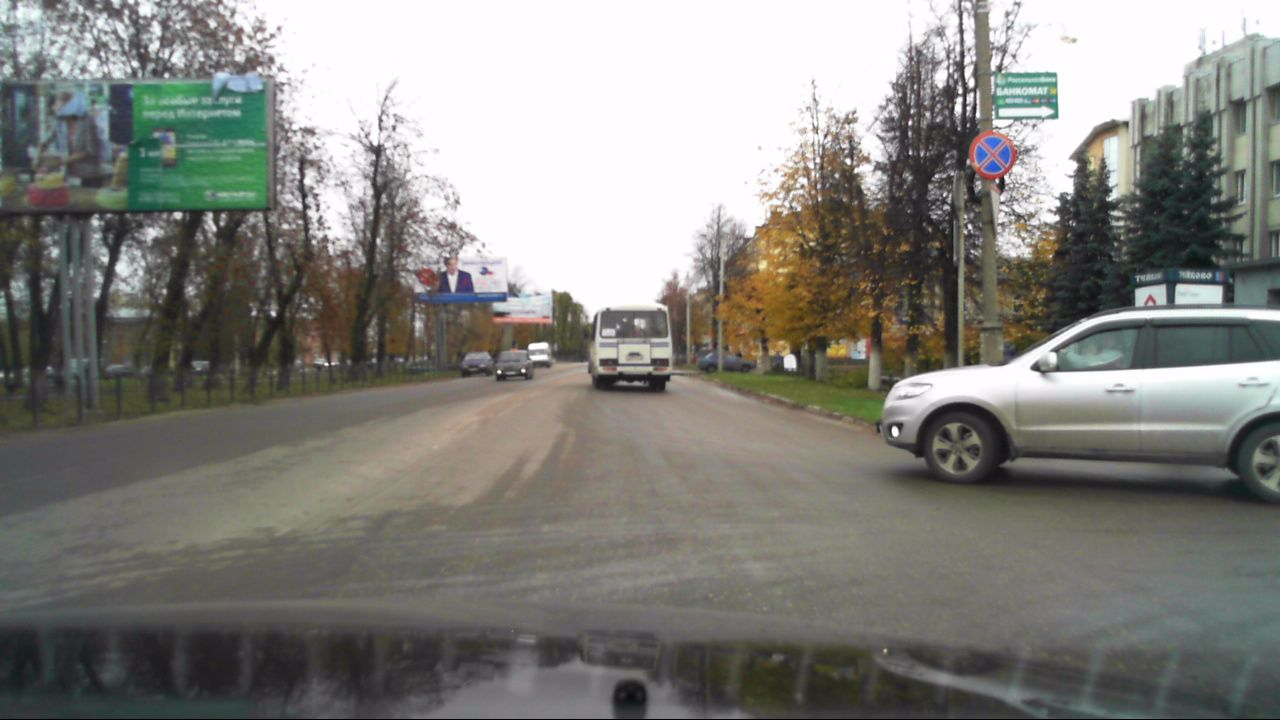No Parking: (969, 131, 1015, 179)
